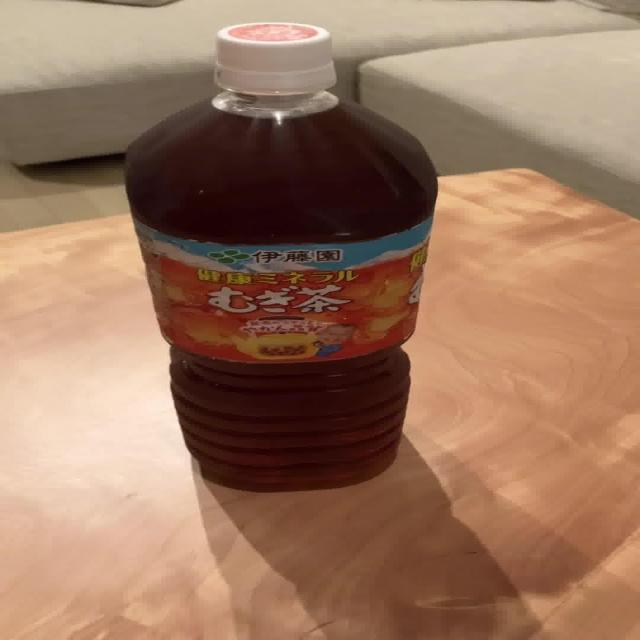good: (118, 19, 442, 494)
